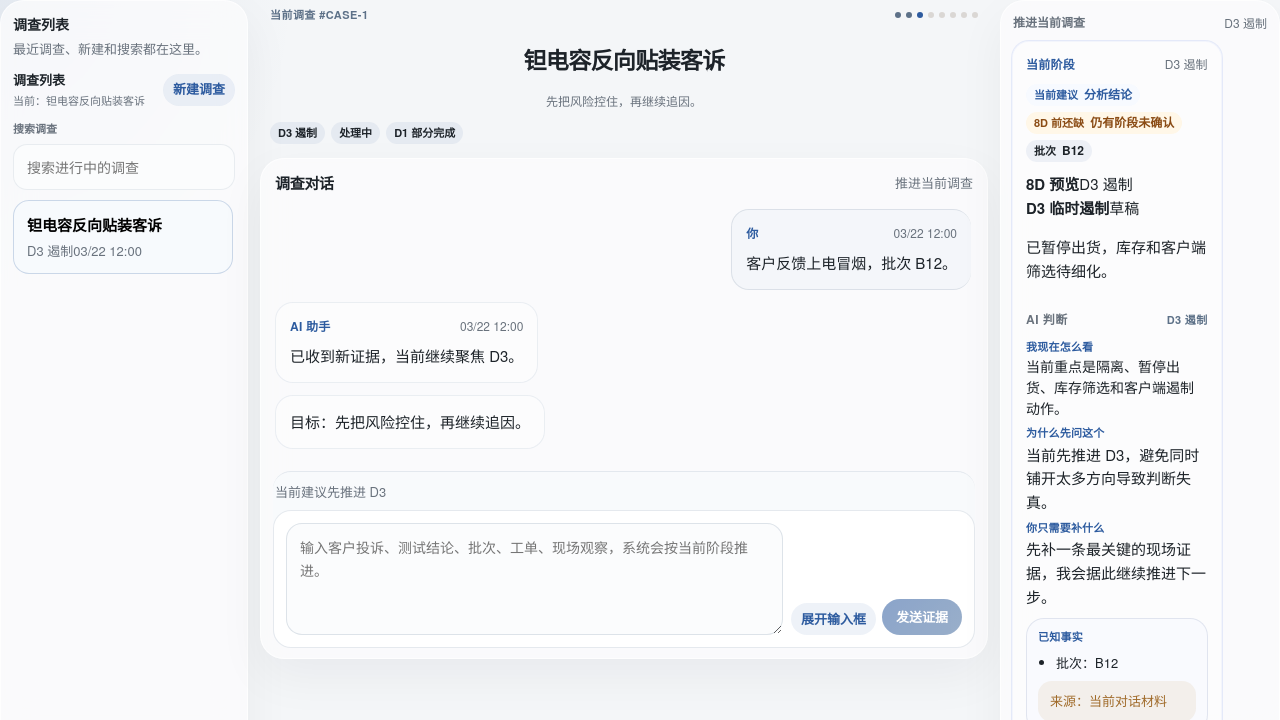
Test: Workspace › shows result recommendation actions only after a fresh summary-oriented interaction
Check: the heading "钽电容反向贴装客诉" is shown, box top-left (270, 33), bottom-right (978, 83)
Type "帮我总结一下现在情况" into the text box named "证据输入框" at [534, 579], box top-left (286, 523), bottom-right (783, 635)
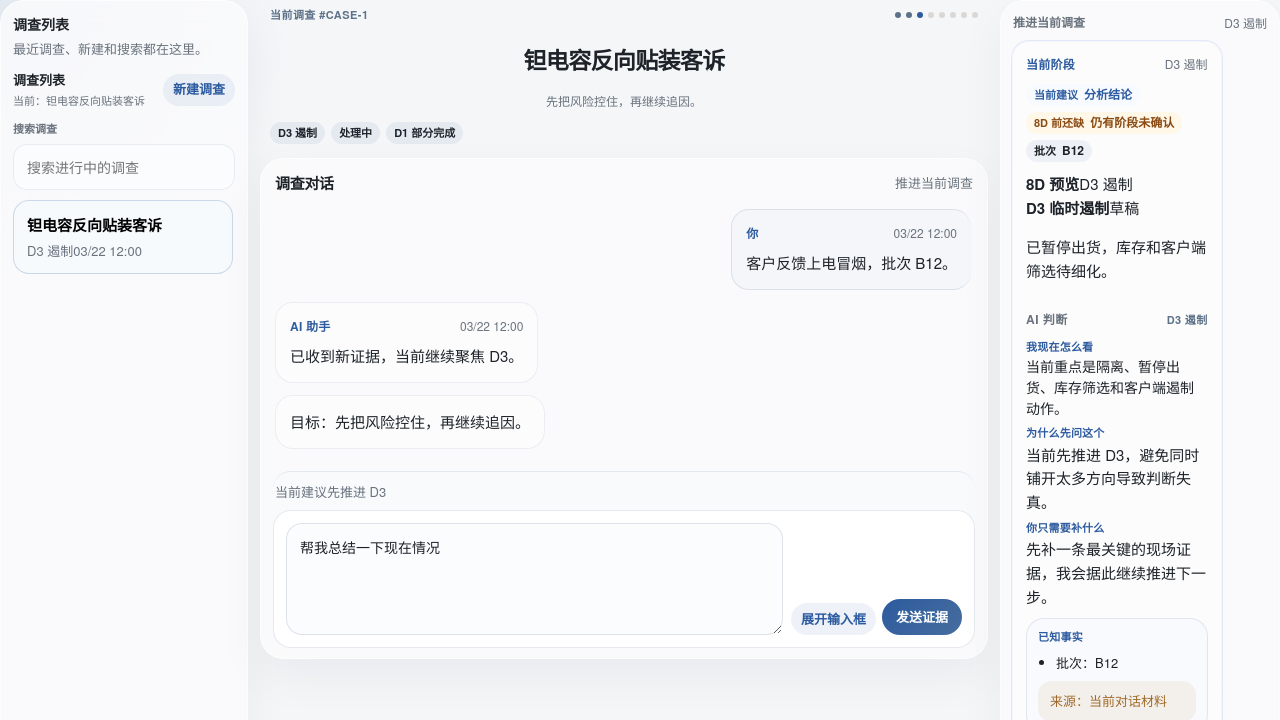
Click the button "发送证据" at [922, 617], box top-left (882, 599), bottom-right (962, 635)
(page scrolled)
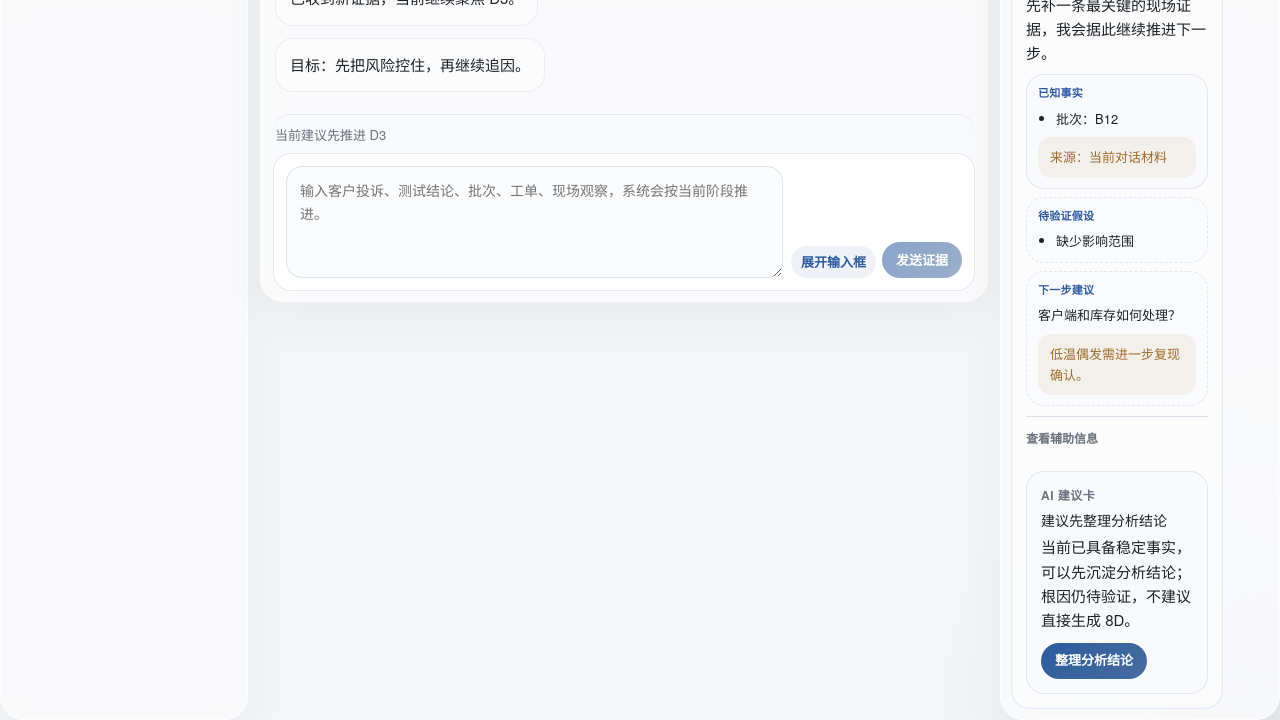
Check: the text "建议先整理分析结论" is shown, box top-left (1041, 510), bottom-right (1167, 530)
Check: the button "整理分析结论" is shown, box top-left (1041, 643), bottom-right (1147, 679)
